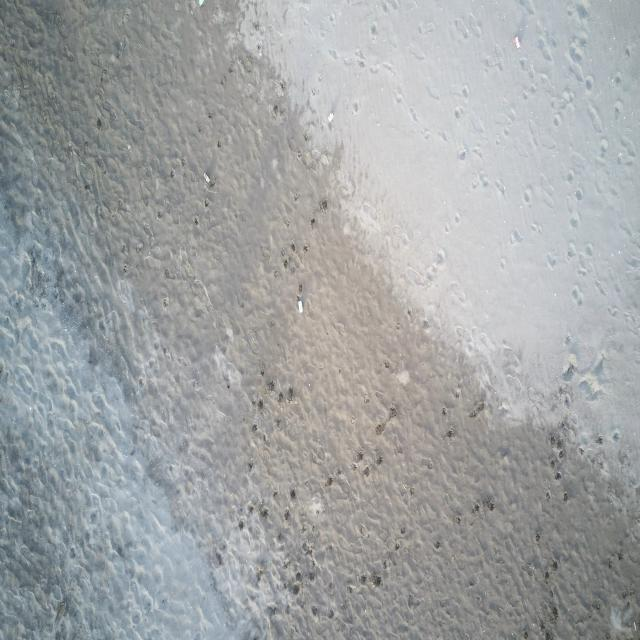Garbage: (296, 283, 303, 312), (296, 295, 303, 312), (512, 35, 519, 48), (203, 172, 209, 183), (327, 111, 332, 121), (198, 0, 204, 4)
